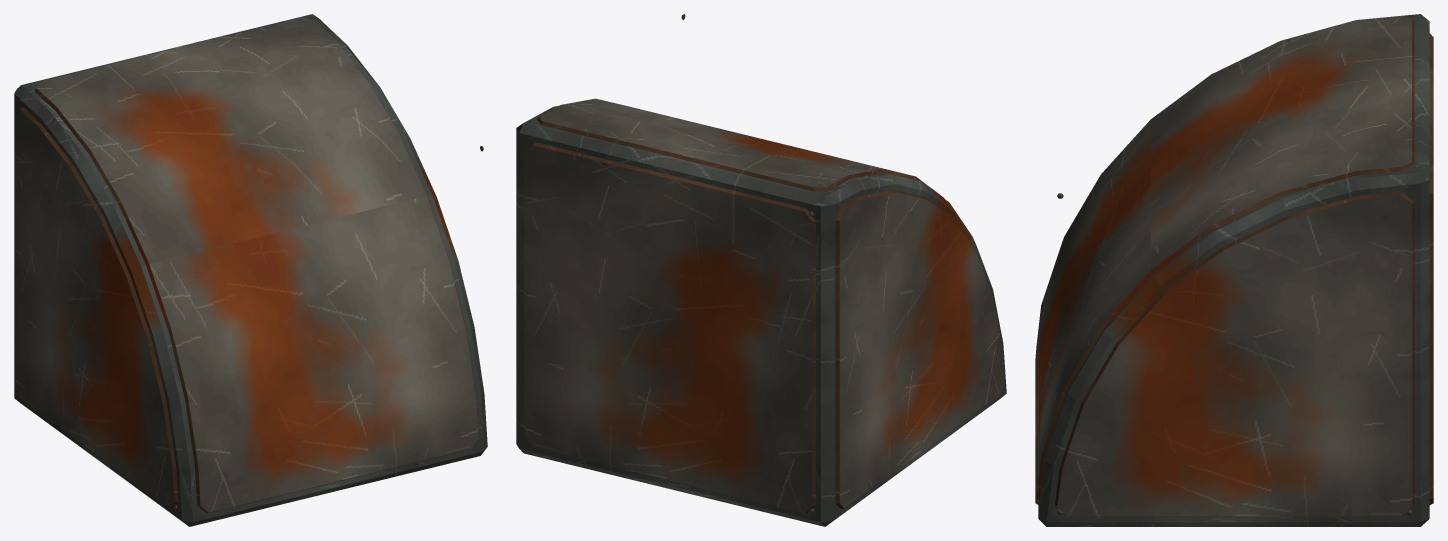
File: R4B_RoundEdge.glb
3 renders of one model, left to right at view 1: azimuth 30°, elevation 25°; view 2: azimuth 150°, elevation 25°; view 3: azimuth 270°, elevation 25°, orthographic. The views are drawn at different scales.
Parts seen in each view (by area): view 1: R4B_RoundEdge; view 2: R4B_RoundEdge; view 3: R4B_RoundEdge.
Boxes of the visible parts, x1,y1,x2,y2 form: R4B_RoundEdge: (14,14,487,526); R4B_RoundEdge: (516,14,1006,526); R4B_RoundEdge: (1035,14,1433,526).
Size of the model in its own units: 0.52 by 0.5176 by 0.5176.
4 materials, 4 textured.
